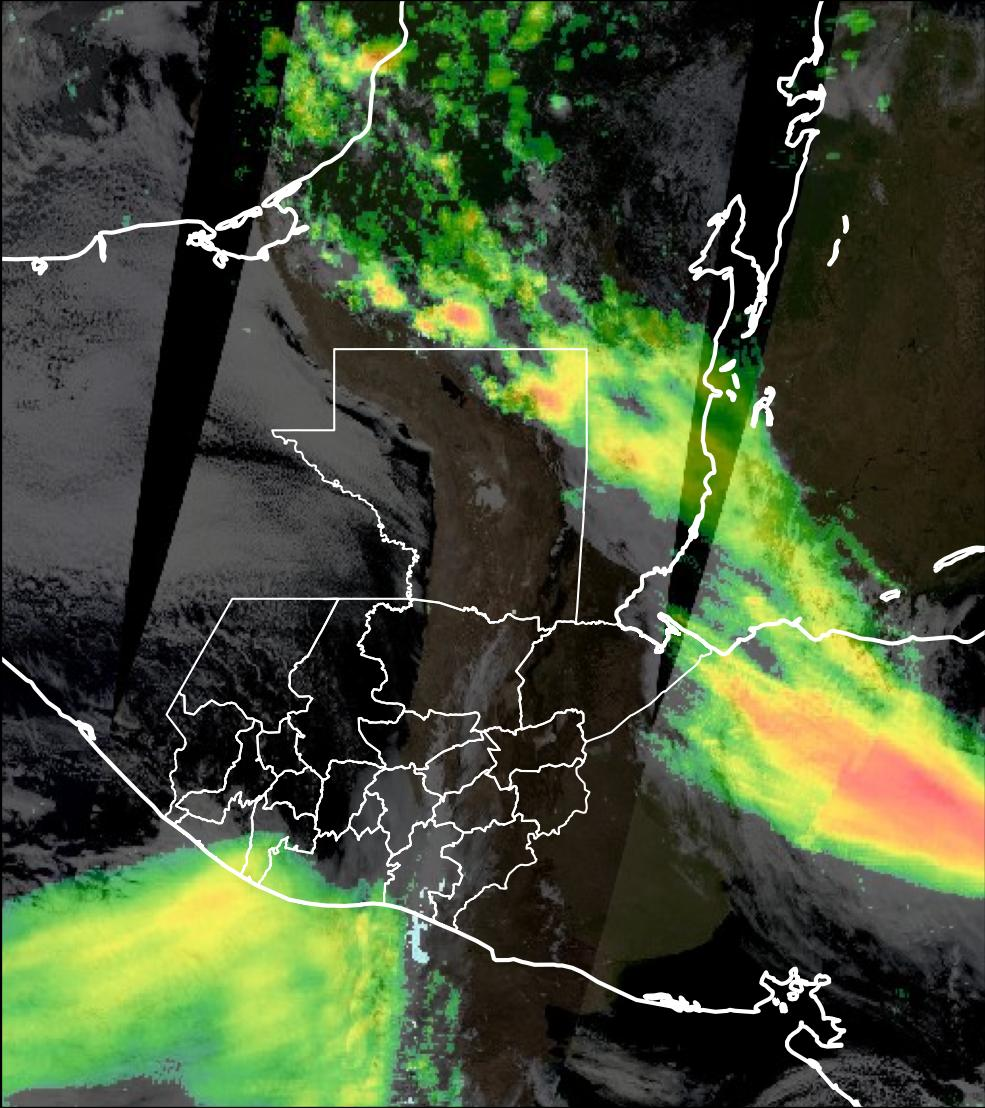precipitacion: (716, 666, 985, 910)
